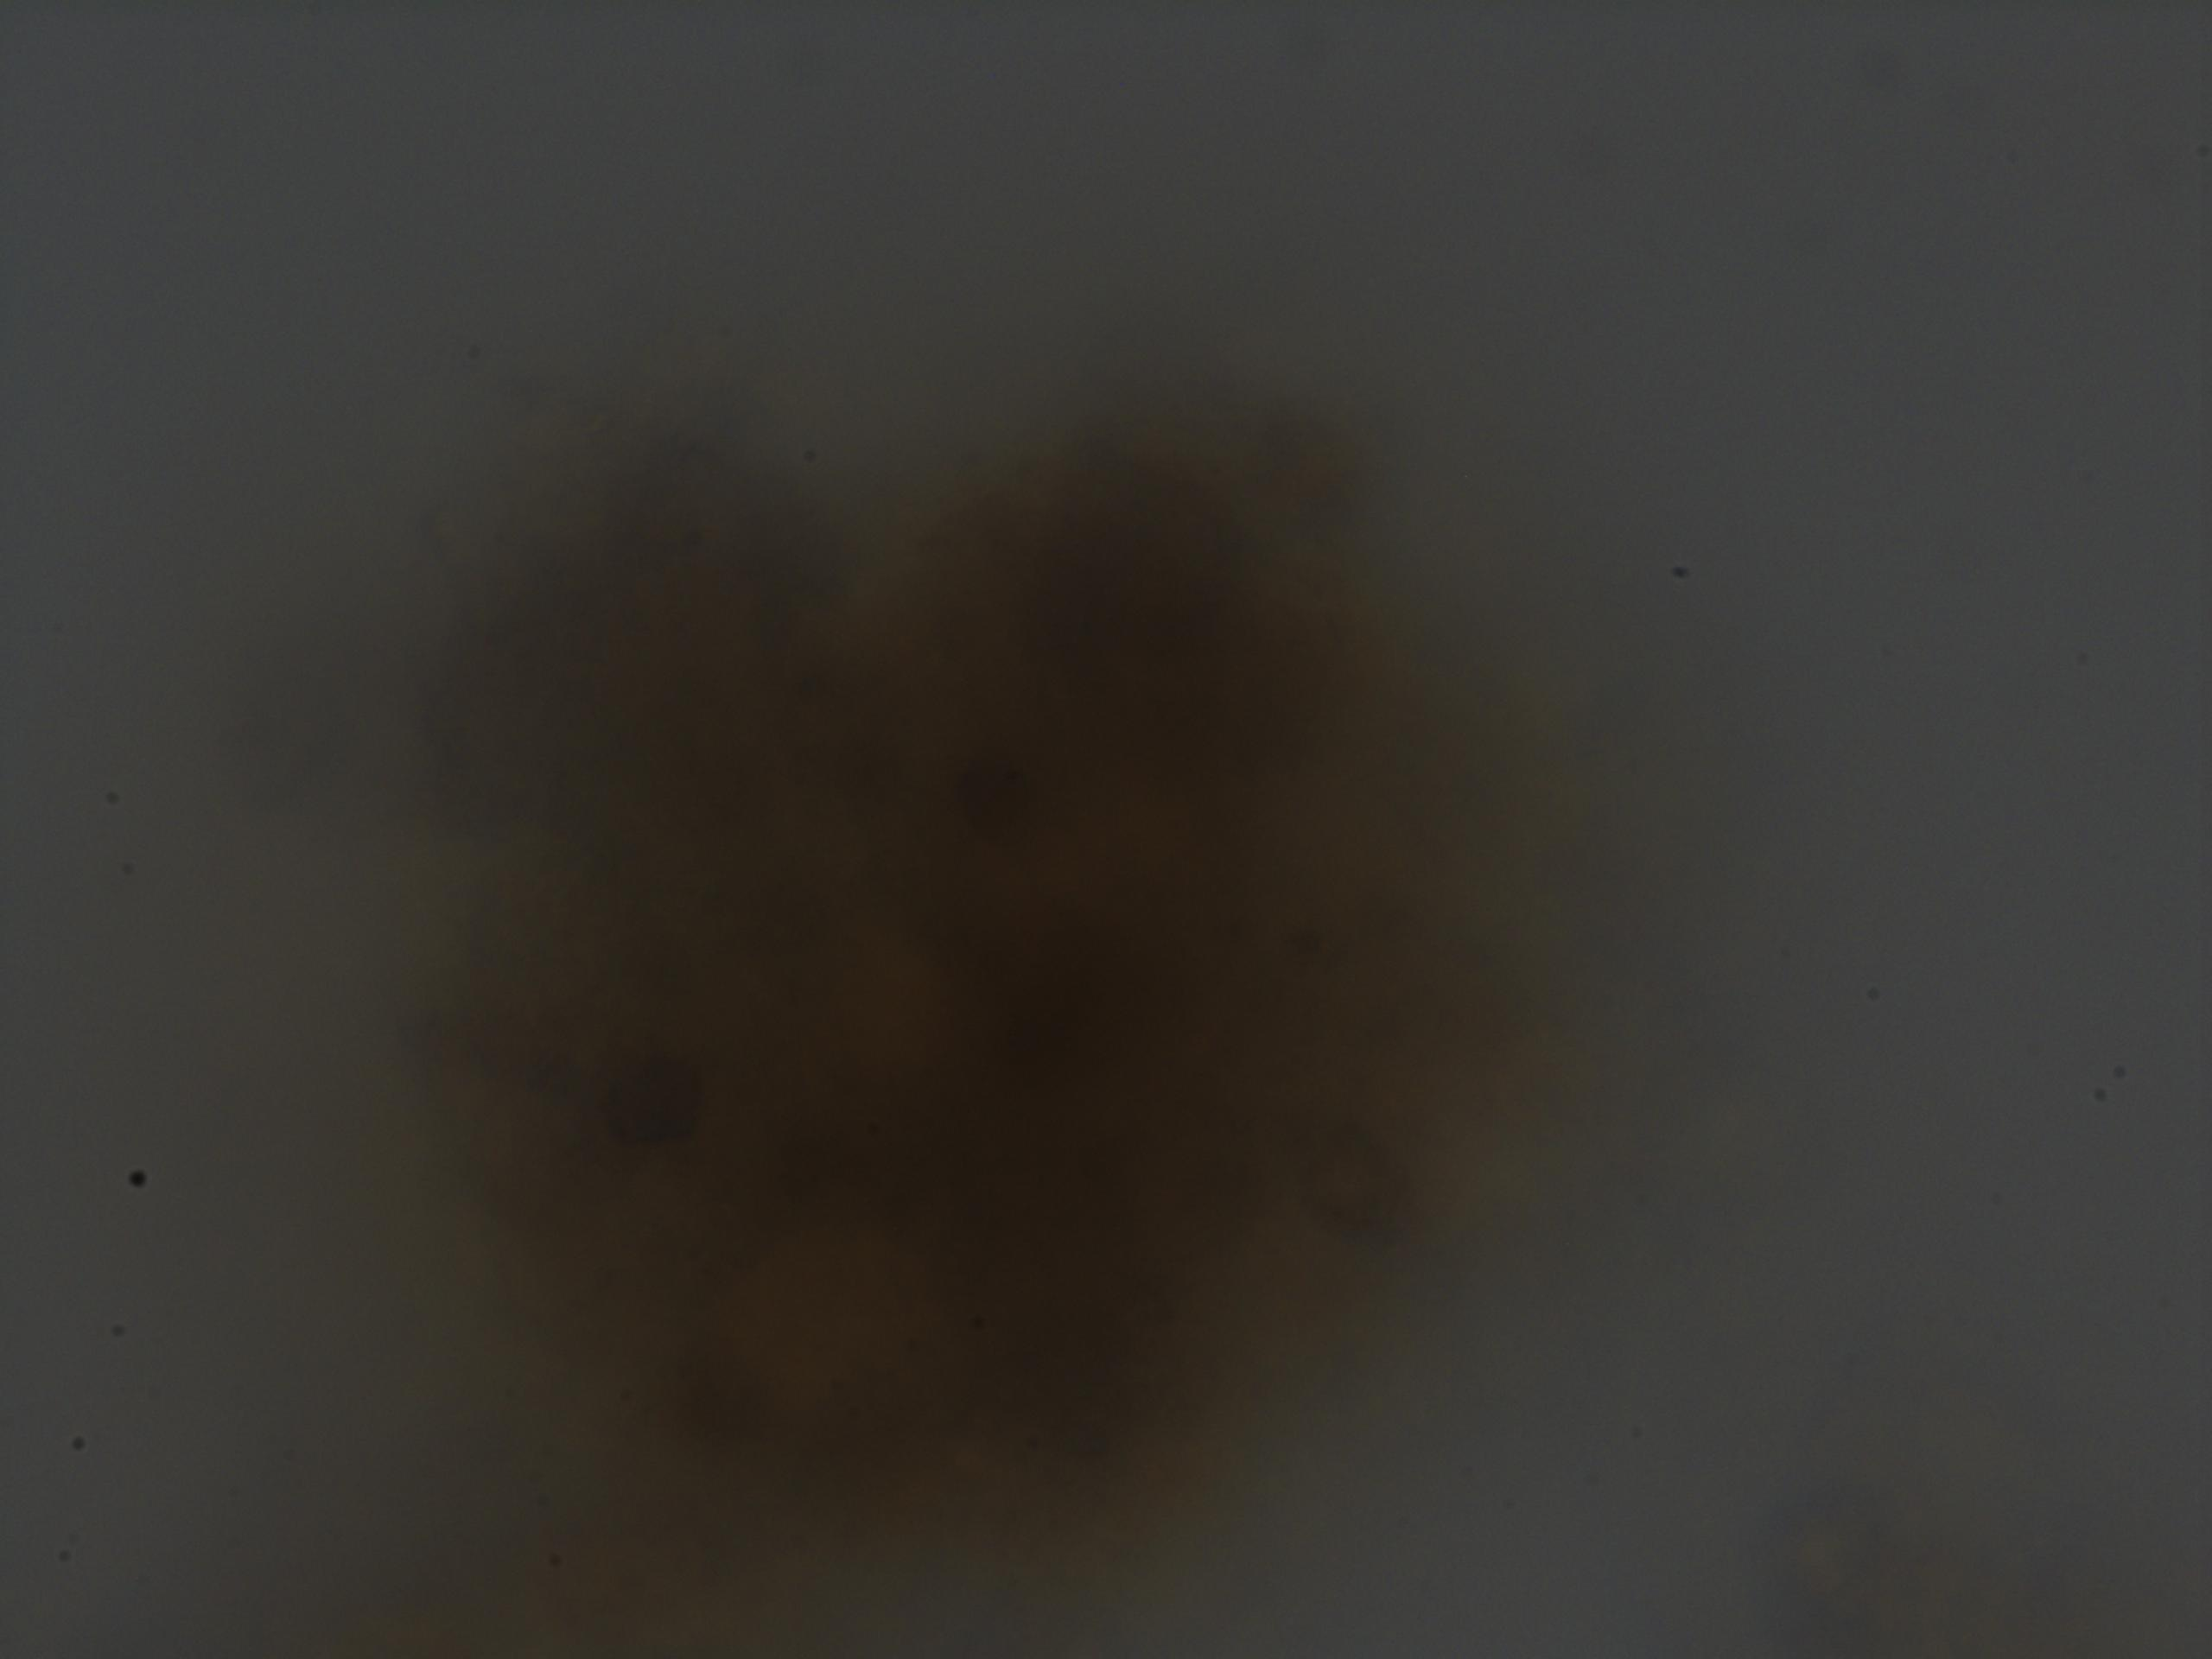spherical_floc: (395, 349, 1548, 1577)
